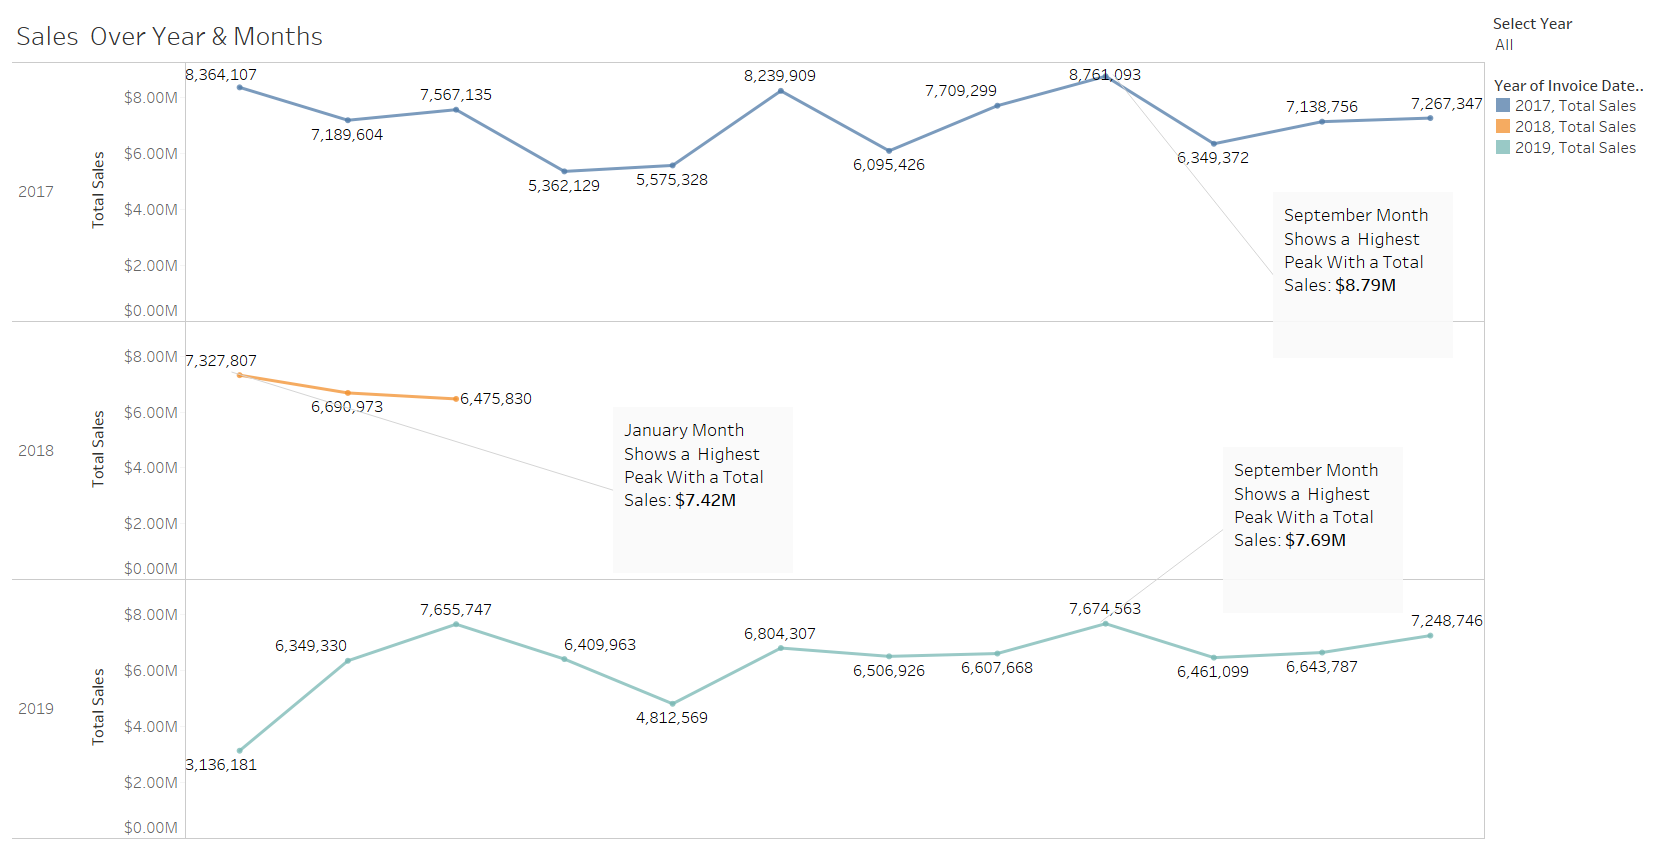

This screenshot's page, from the dashboard's own definition file:
{"tool":"tableau","page":{"name":"Sales Over Months","canvas":[1000,1000],"units":"permille","ordinal":4},"visuals":[{"type":"worksheet","title":"Sales  Over Year & Months ","mark":"Automatic","rows":["Invoice Date","Total Sales"],"cols":["Invoice Date"],"box":[4.8,9.4,893.8,981.2]},{"type":"filter","title":"Sales  Over Year & Months ","param":"[federated.0ecjack1chjh4a12fkh7a0i64tfm].[yr:Invoice Date:ok]","box":[898.6,9.4,96.6,71.7]},{"type":"legend","title":"Sales  Over Year & Months ","param":"[federated.0ecjack1chjh4a12fkh7a0i64tfm].[yr:Invoice Date:ok]\n[federated.0ecjack","box":[898.6,81.1,96.6,109.3]}]}

Visuals, with their boxes on the dashboard's canvas, which has no fixed pixel size, in thousandths of its width and height (x1, y1, x2, y2). These are canvas units, not pixel positions in the 1657x851 screenshot, which may show the page scaled, cropped or inside an application window:
"Sales  Over Year & Months " worksheet: [5,9,899,991]
"Sales  Over Year & Months " filter: [899,9,995,81]
"Sales  Over Year & Months " legend: [899,81,995,190]
